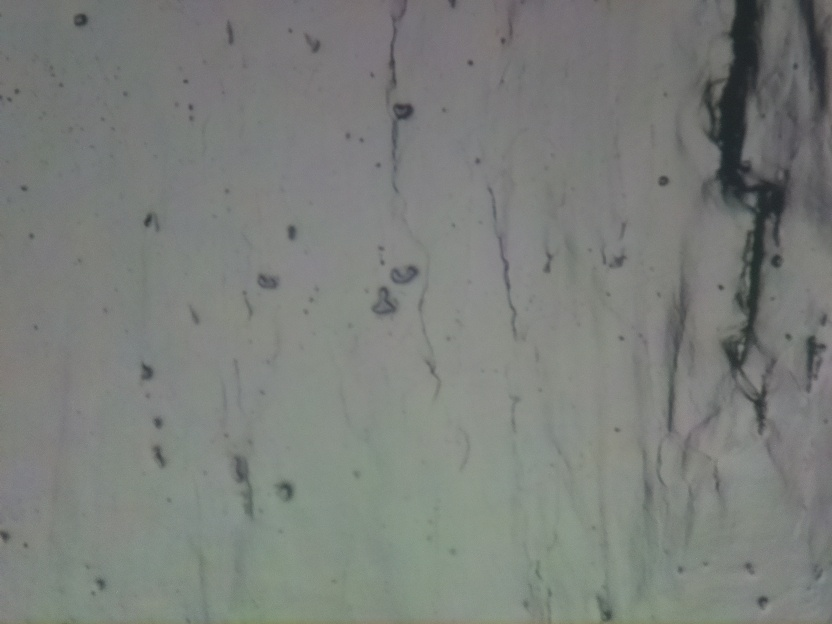crack: (713, 0, 792, 360)
